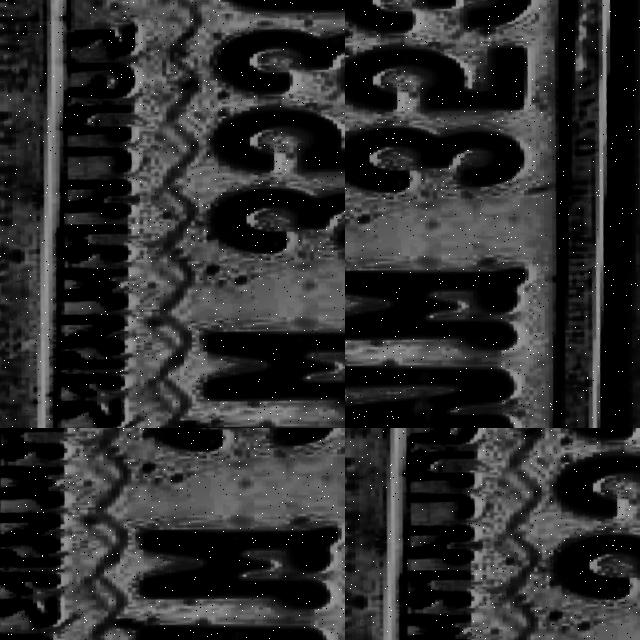license-plate: (371, 99, 640, 428), (345, 428, 640, 640)
